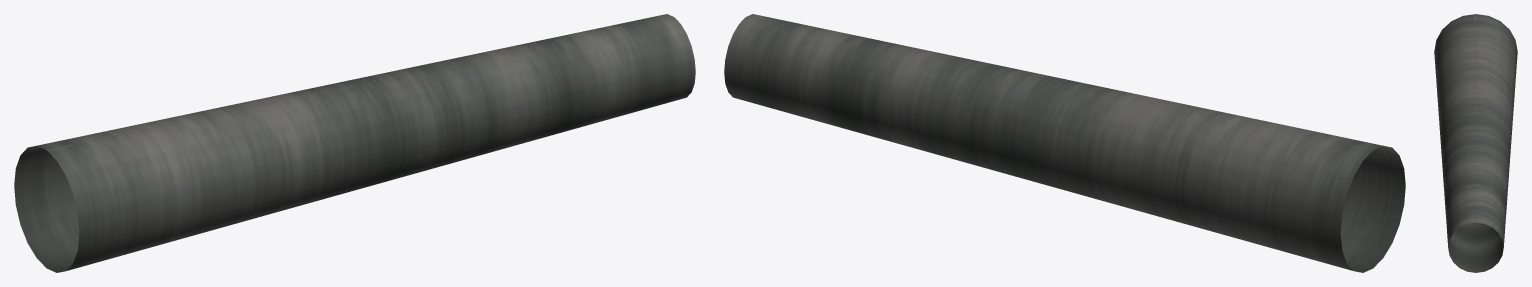
The model's file is armTube-v1.glb.
3 views of the same model, side by side, from view 1: azimuth 30°, elevation 25°; view 2: azimuth 150°, elevation 25°; view 3: azimuth 270°, elevation 25° (orthographic). The views are drawn at different scales.
Parts seen in each view (by area): view 1: armTube-v1; view 2: armTube-v1; view 3: armTube-v1.
Part boxes in pixels (x1,y1,x2,y2): armTube-v1: (14,14,695,272); armTube-v1: (724,14,1405,272); armTube-v1: (1434,14,1517,272).
Size of the model in its own units: 1 by 0.18 by 0.18.
Materials: 1 (1 with a texture image).
